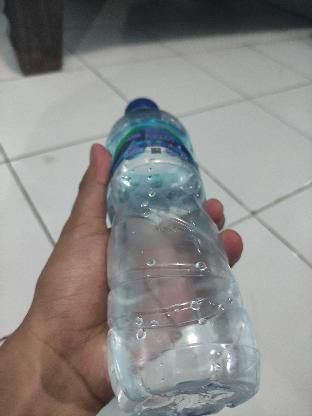Plastic Bottle: (71, 90, 276, 416)
